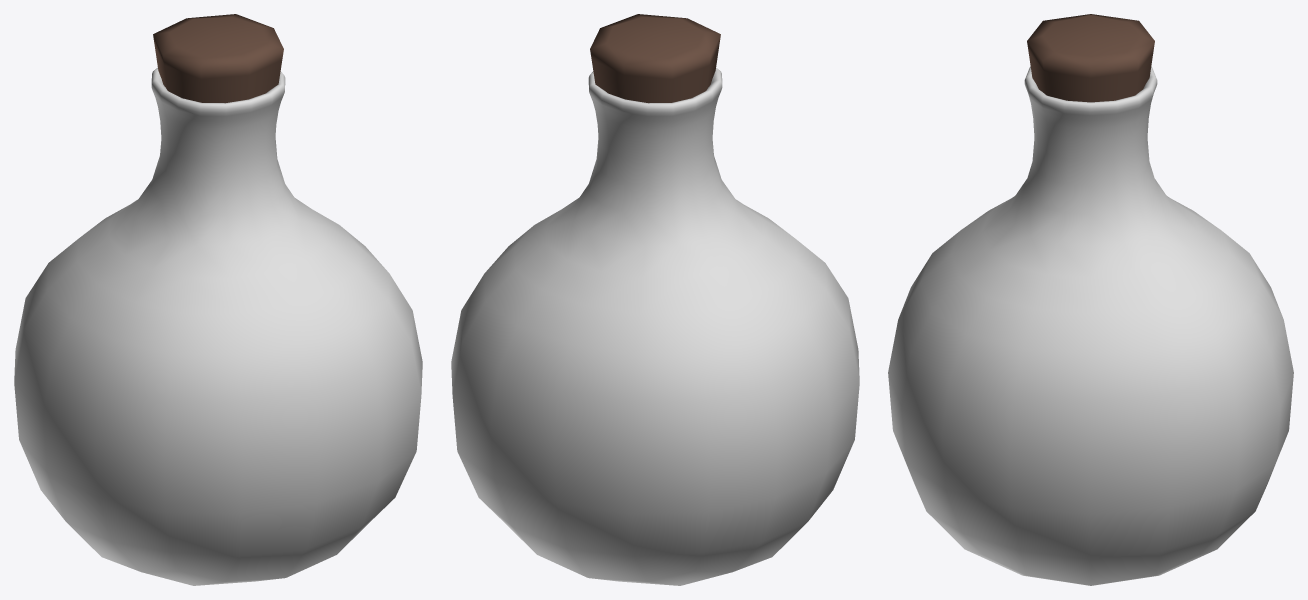
Rendered from Potion1_Filled.glb.
3 renders of one model, left to right at view 1: azimuth 30°, elevation 25°; view 2: azimuth 150°, elevation 25°; view 3: azimuth 270°, elevation 25°, orthographic.
Parts seen in each view (by area): view 1: Potion1_Filled; view 2: Potion1_Filled; view 3: Potion1_Filled.
Part boxes in pixels (box(x1,y1,x2,y2)): Potion1_Filled: box(14, 14, 422, 585); Potion1_Filled: box(451, 14, 859, 585); Potion1_Filled: box(888, 14, 1293, 585).
Bounding box in the file's own units: 0.6685 × 0.9629 × 0.6685.
